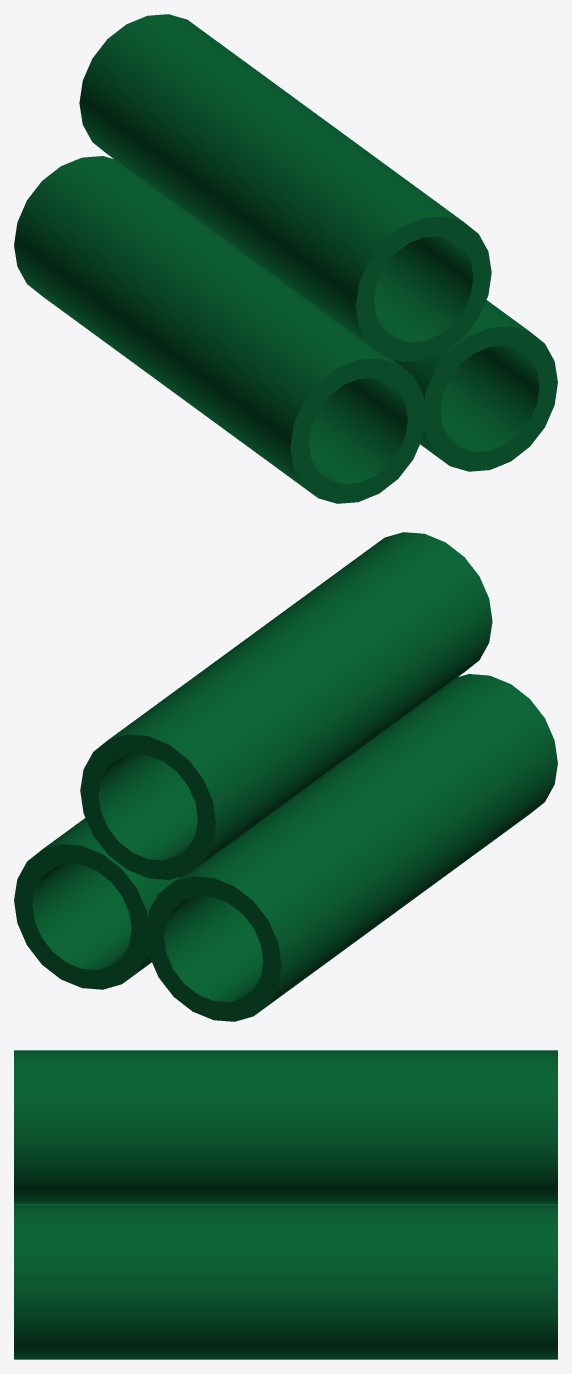
Rendered from Pipes.fbx.
3 views of the same model, one above another, from view 1: azimuth 30°, elevation 25°; view 2: azimuth 150°, elevation 25°; view 3: azimuth 270°, elevation 25° (orthographic).
Visible parts, largest first — view 1: pPipe4; view 2: pPipe4; view 3: pPipe4.
Boxes of the visible parts, left/top/right/bottom form: pPipe4: left=14, top=14, right=557, bottom=503; pPipe4: left=14, top=532, right=557, bottom=1021; pPipe4: left=14, top=1050, right=557, bottom=1359.
Size of the model in its own units: 59.47 by 56.95 by 106.
